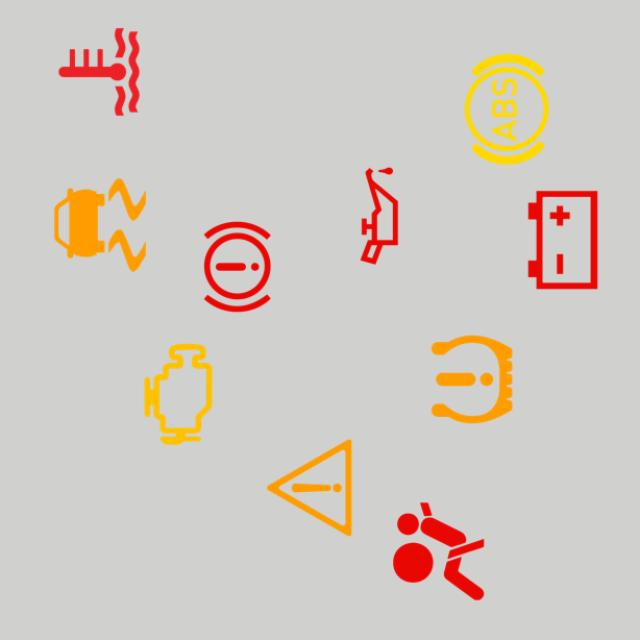Anti Lock Braking System: (446, 49, 567, 170)
Braking System Issue: (177, 206, 298, 328)
Charging System Issue: (502, 179, 624, 300)
Check Engine: (118, 334, 238, 454)
Electronic Stability Problem -ESP-: (40, 164, 160, 286)
Engine Overheating Warning Light: (39, 12, 160, 132)
Low Engine Oil Warning Light: (319, 156, 440, 276)
Low Tire Pressure Warning Light: (412, 319, 532, 440)
Master warning light: (249, 428, 370, 548)
SRS-Airbag: (378, 491, 499, 612)
